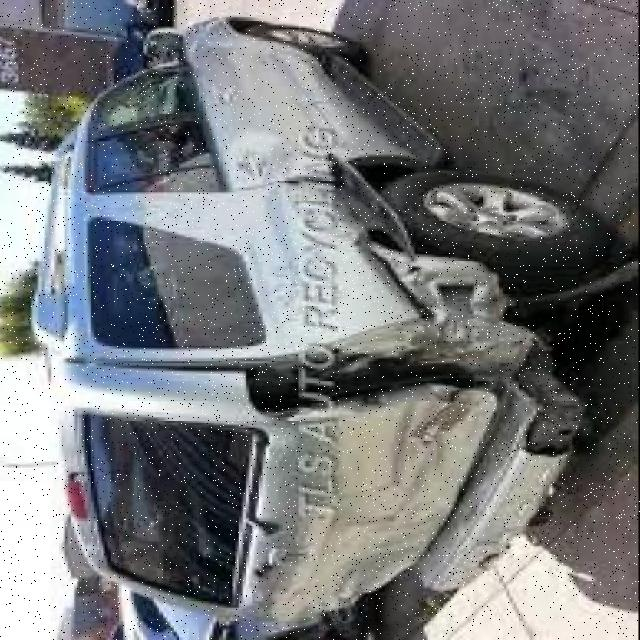damage: (245, 158, 580, 616)
